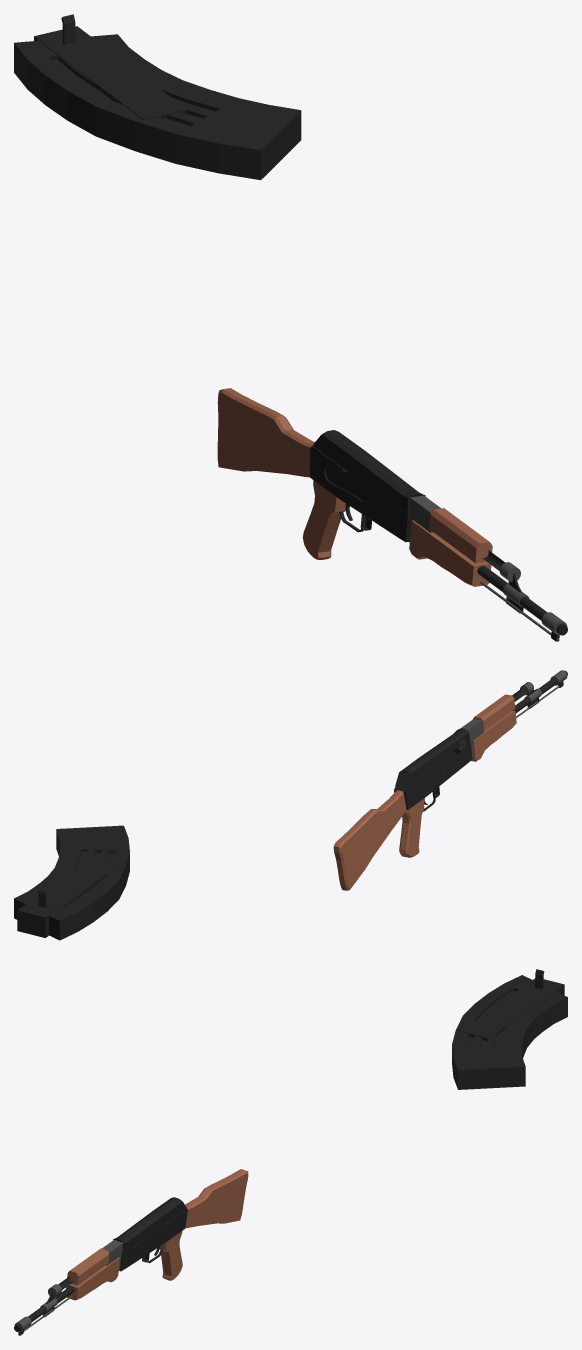
3 renders of one model, top to bottom at view 1: azimuth 30°, elevation 25°; view 2: azimuth 150°, elevation 25°; view 3: azimuth 330°, elevation 25°, orthographic. The views are drawn at different scales.
Parts seen in each view (by area): view 1: Body, Cartridge, Reloader; view 2: Body, Cartridge, Reloader; view 3: Body, Cartridge, Reloader.
Boxes of the visible parts, box(x1,y1,x2,y2) form: Body: box(217, 388, 567, 641); Cartridge: box(14, 34, 301, 180); Reloader: box(34, 14, 186, 120); Body: box(333, 670, 567, 890); Cartridge: box(14, 825, 129, 940); Reloader: box(17, 856, 121, 937); Body: box(14, 1169, 248, 1335); Cartridge: box(452, 975, 567, 1089); Reloader: box(460, 969, 564, 1041).
Size of the model in its own units: 188 by 140 by 804.
